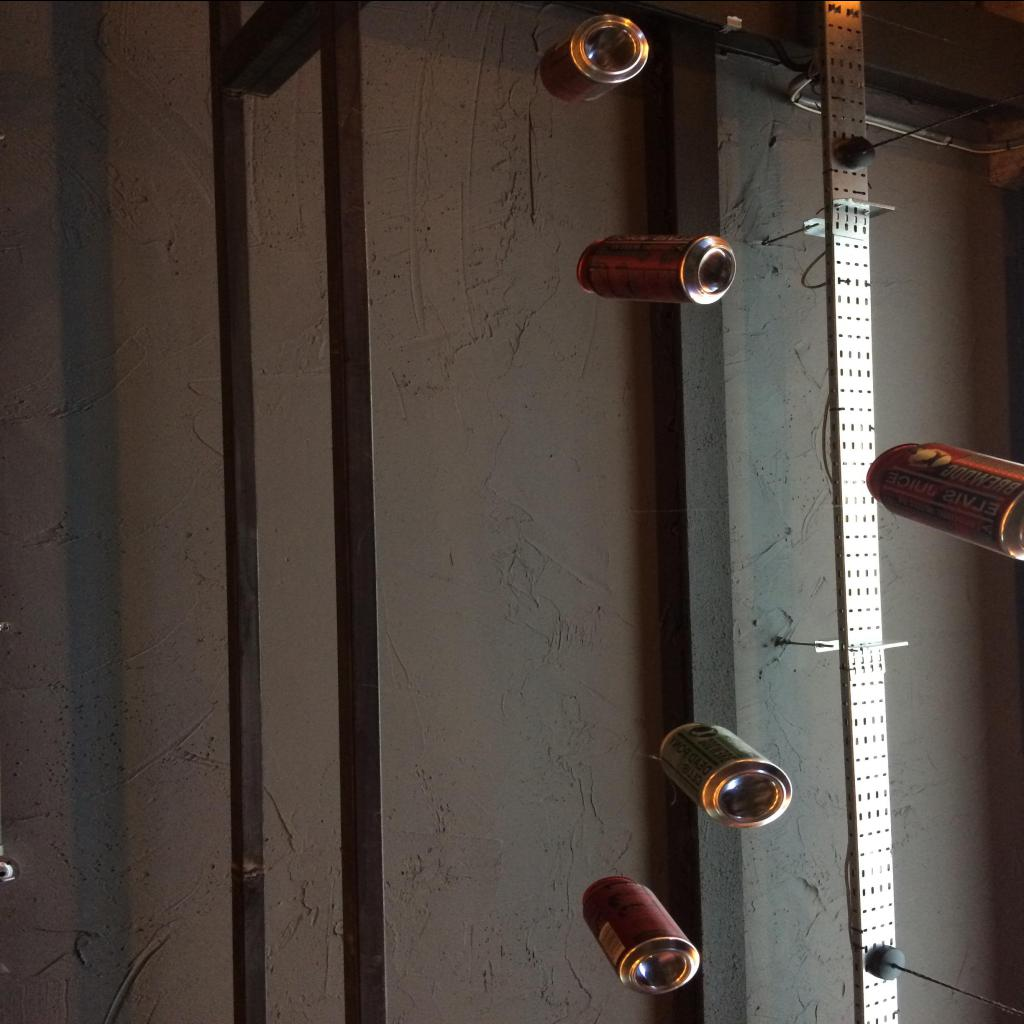Drink can: (866, 441, 1023, 560), (660, 722, 792, 828), (582, 876, 700, 994), (577, 234, 736, 304), (540, 14, 649, 102)
